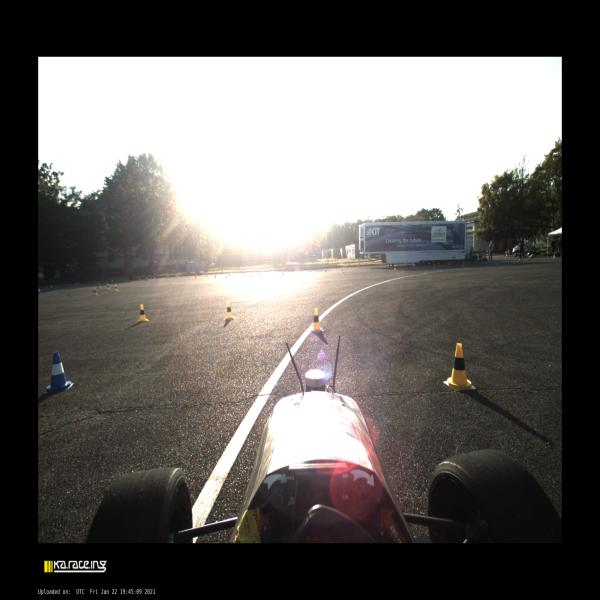blue_cone: (43, 351, 75, 394), (38, 288, 41, 294), (518, 256, 521, 262), (51, 284, 53, 290), (413, 262, 415, 268), (370, 265, 372, 270), (448, 261, 450, 266), (488, 259, 490, 264), (554, 255, 556, 260), (75, 282, 77, 286), (206, 273, 208, 277), (324, 268, 326, 272), (146, 277, 148, 280), (175, 275, 177, 278), (228, 273, 230, 276), (244, 273, 245, 276)
yellow_cone: (443, 342, 477, 392), (310, 307, 324, 333), (136, 303, 150, 324), (224, 300, 234, 321), (92, 287, 99, 297), (113, 283, 119, 292), (97, 282, 102, 290), (105, 283, 110, 290), (528, 257, 532, 263), (167, 275, 170, 281), (214, 274, 217, 280), (225, 274, 228, 280), (138, 278, 142, 282), (433, 263, 436, 268), (341, 268, 344, 273), (495, 259, 497, 265), (462, 262, 464, 267), (394, 265, 396, 270), (282, 271, 284, 276), (195, 274, 197, 279), (250, 274, 252, 278)
